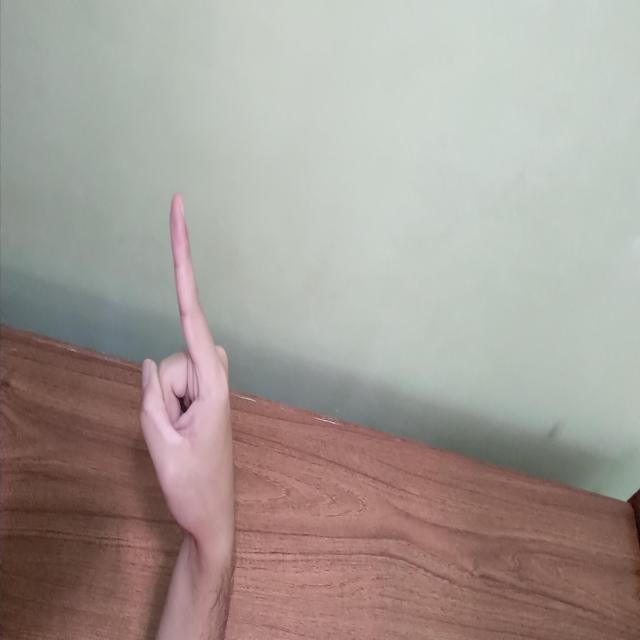Z: (191, 405, 534, 500)
